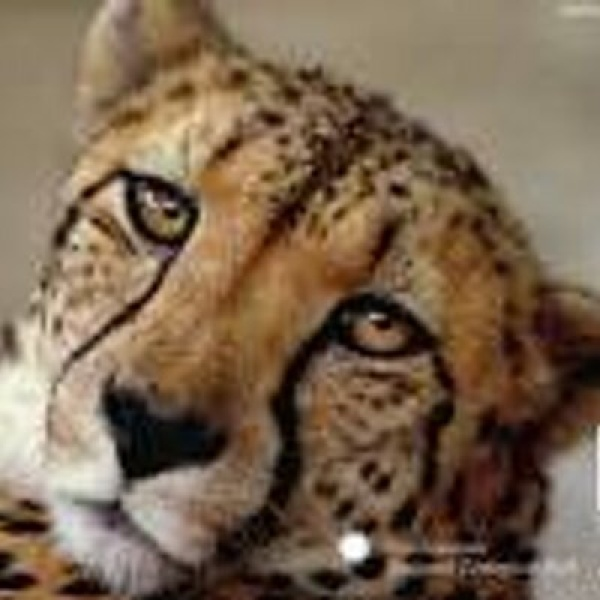Cheetah: (2, 4, 597, 597)
